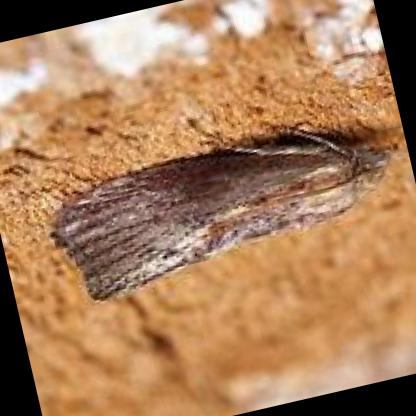plutella: (43, 124, 405, 309)
